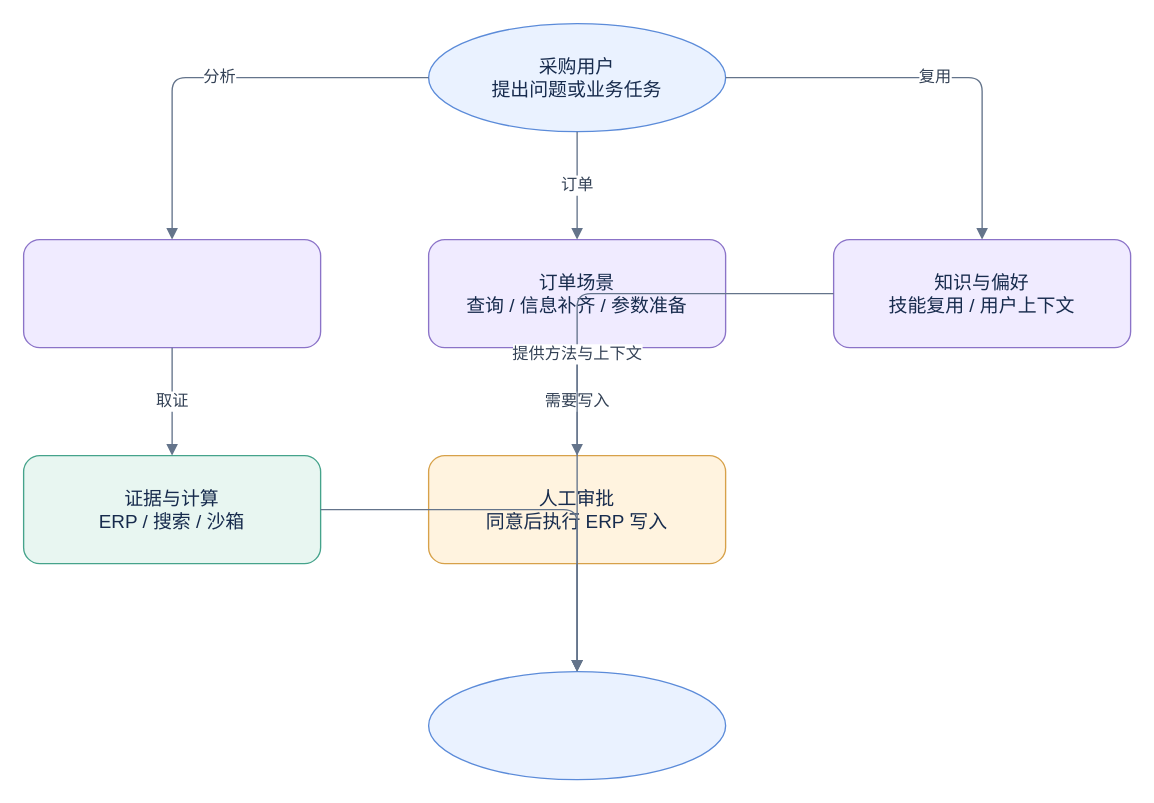
Some shapes in this 1154 by 803 pixel diagram are drawn without their labels. The centre of each missing label's shape, as x and y in pixels:
"分析场景 比价 / 行情 / 采购策略" belongs at (x=171, y=293).
"可读业务结果 结论 / 图表 / 实际订单结果" belongs at (x=576, y=725).
